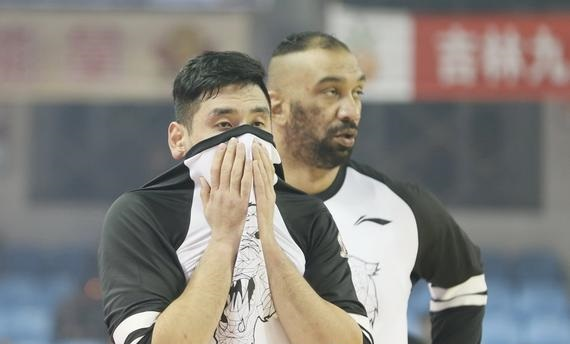face: (295, 50, 364, 161)
face_mask: (185, 82, 270, 183)
